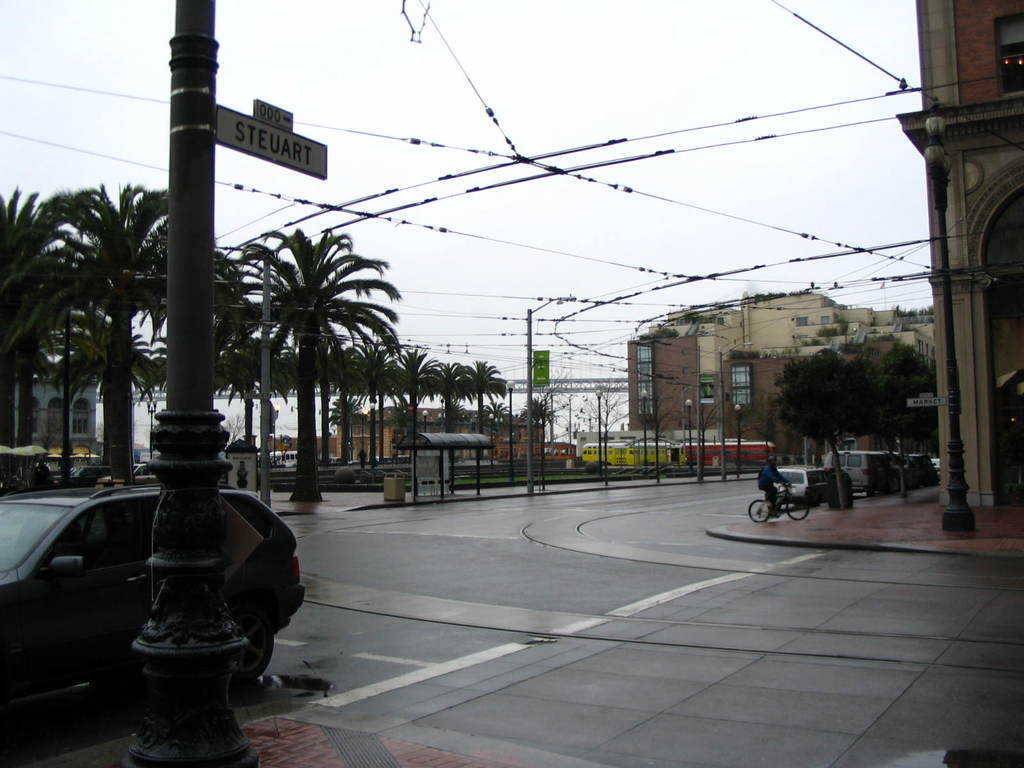Car: (19, 469, 250, 686), (773, 464, 837, 508)
